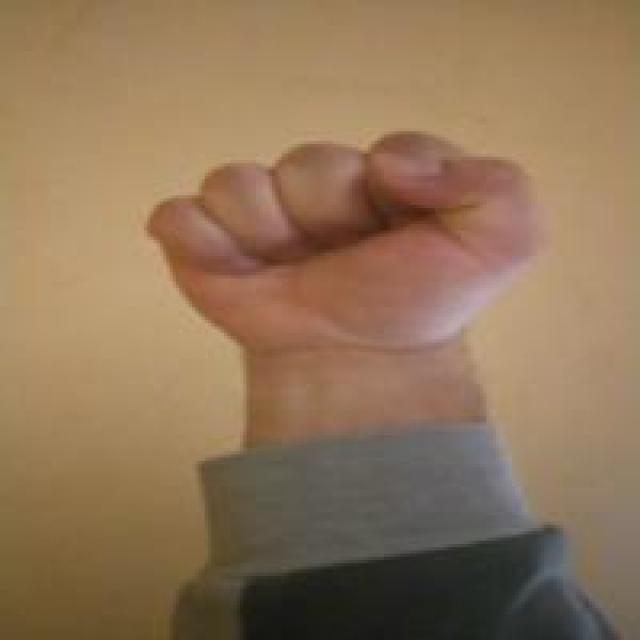S: (134, 120, 557, 350)
